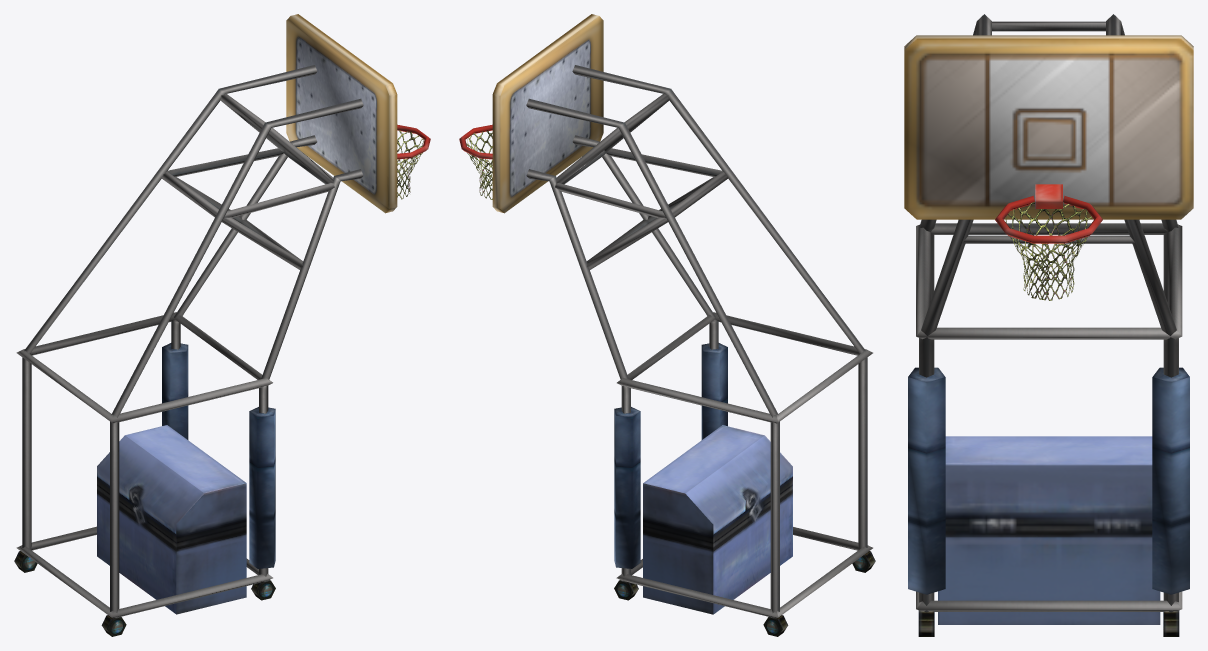
Rendered from a_sebasket02.glb.
3 views of the same model, side by side, from view 1: azimuth 30°, elevation 25°; view 2: azimuth 150°, elevation 25°; view 3: azimuth 270°, elevation 25° (orthographic). The views are drawn at different scales.
Visible parts, largest first — view 1: a_sebasket02; view 2: a_sebasket02; view 3: a_sebasket02.
Boxes of the visible parts, x1,y1,x2,y2 form: a_sebasket02: (14,14,430,636); a_sebasket02: (459,14,875,636); a_sebasket02: (904,14,1193,636).
Size of the model in its own units: 3.07 by 3.91 by 1.51.
2 materials, 2 textured.
